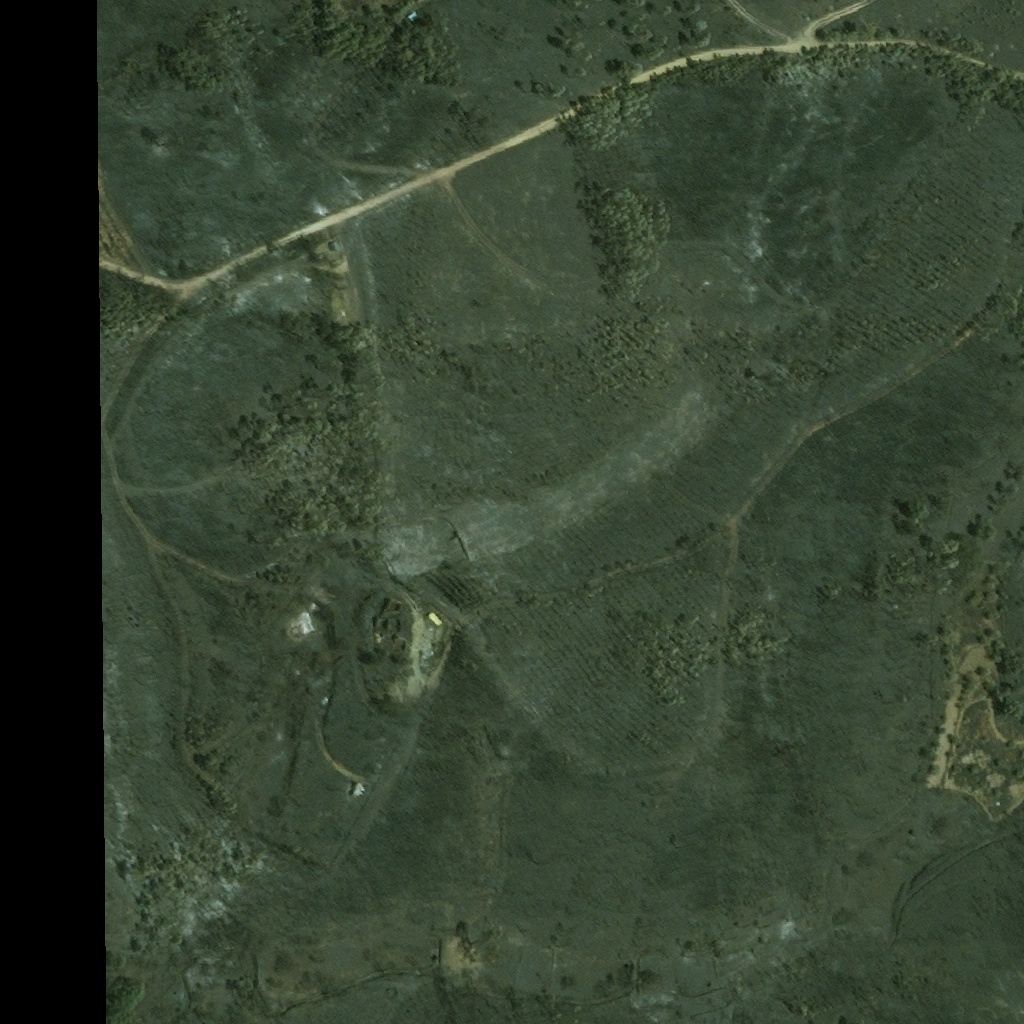3 destroyed: (343, 777, 369, 802), (294, 614, 317, 633), (426, 609, 443, 626)
